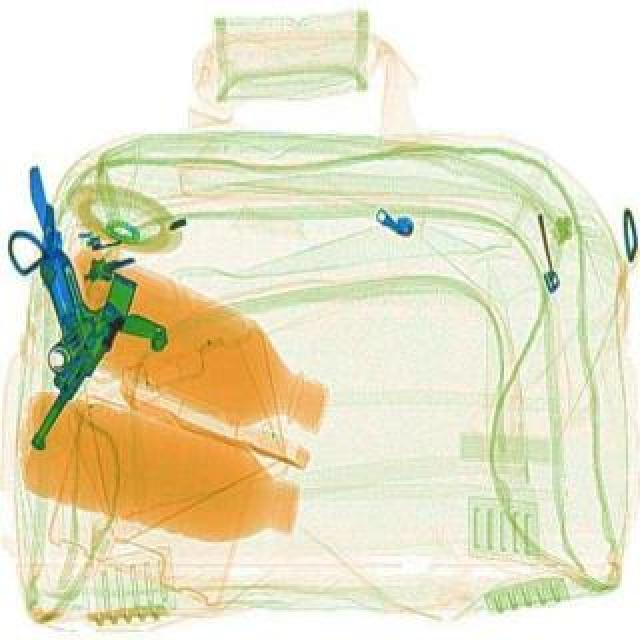gun: (0, 252, 204, 466), (12, 152, 126, 366)
